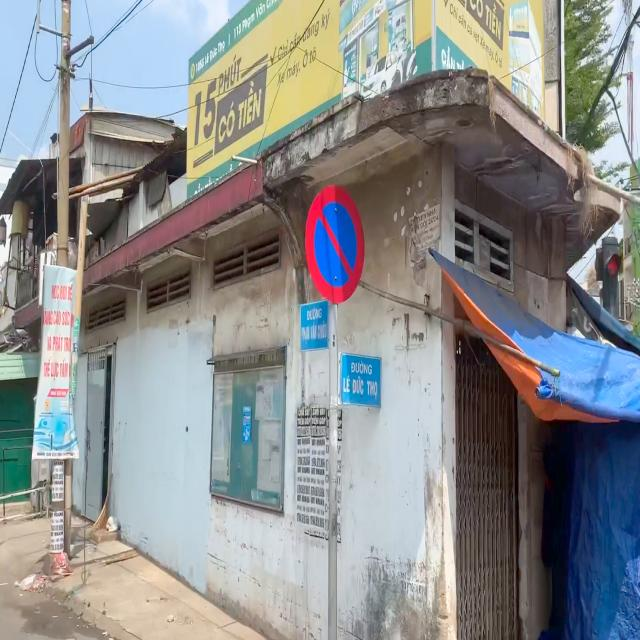Cam do: (304, 180, 366, 310)
